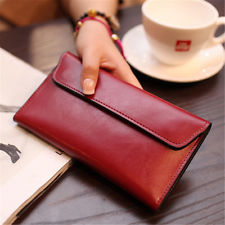monedero: (13, 50, 213, 211)
